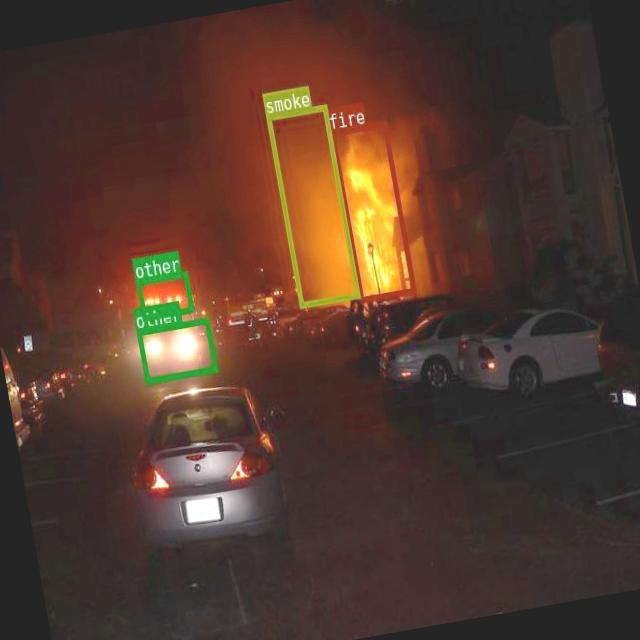fire: (328, 120, 415, 302)
smoke: (264, 102, 358, 308)
